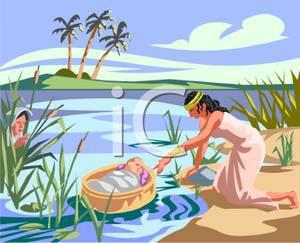person: (155, 90, 299, 209), (7, 105, 34, 150), (125, 156, 149, 176)
